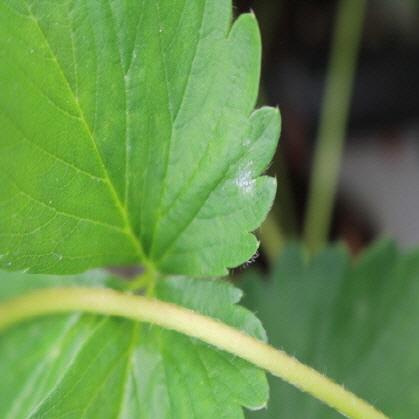Powdery Mildew Leaf: (0, 0, 282, 278)
